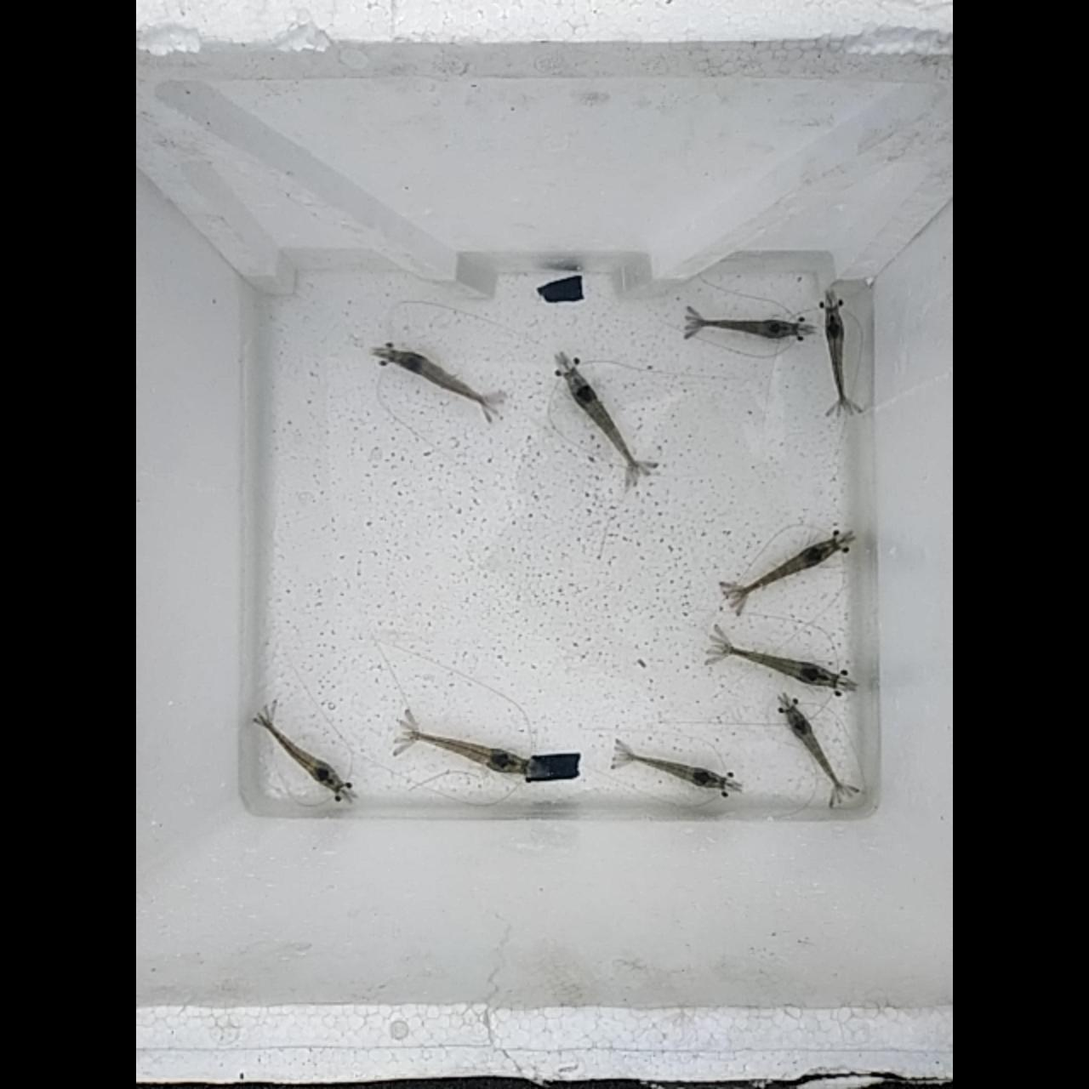box: (537, 272, 584, 303), (531, 757, 577, 781)
top_shrimp: (567, 373, 640, 473), (260, 718, 340, 790), (390, 351, 492, 407), (735, 541, 835, 597), (412, 735, 524, 776), (790, 710, 844, 795), (721, 648, 835, 686), (628, 757, 725, 788), (825, 308, 846, 408), (696, 322, 795, 339)
